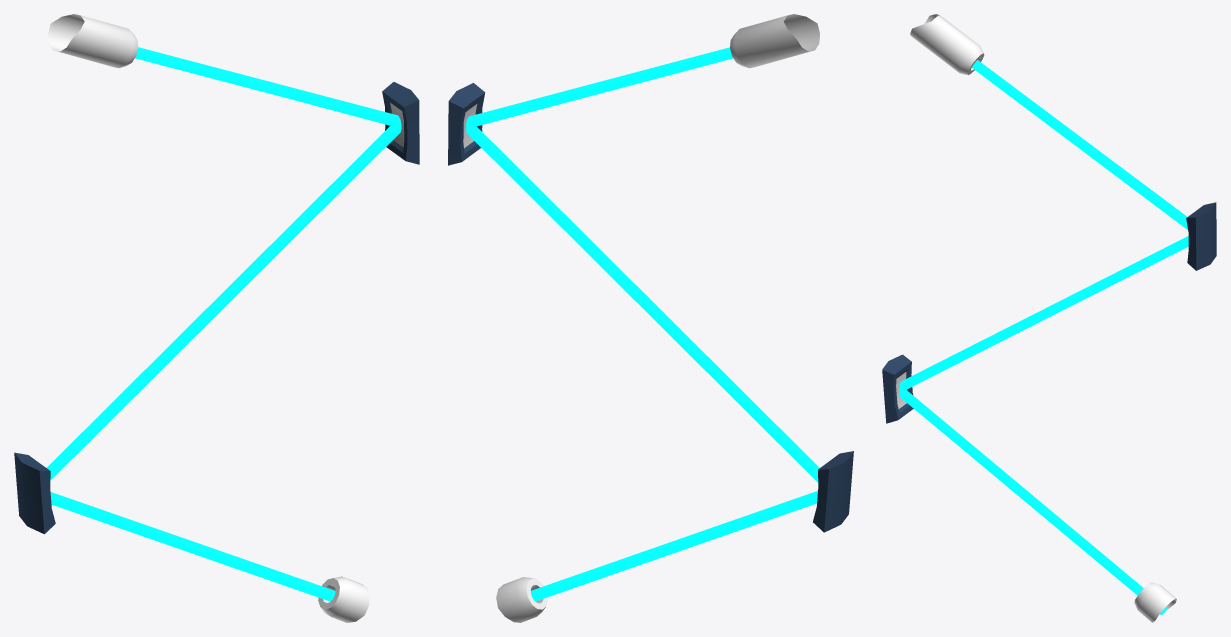
File: Misc_LaserBlender_Lasers.fbx
3 views of the same model, side by side, from view 1: azimuth 30°, elevation 25°; view 2: azimuth 150°, elevation 25°; view 3: azimuth 330°, elevation 25° (orthographic). The views are drawn at different scales.
Parts seen in each view (by area): view 1: Misc_LaserBlender_Lasers.001; view 2: Misc_LaserBlender_Lasers.001; view 3: Misc_LaserBlender_Lasers.001.
Boxes of the visible parts, box(x1,y1,x2,y2) form: Misc_LaserBlender_Lasers.001: box(14, 14, 419, 622); Misc_LaserBlender_Lasers.001: box(448, 14, 853, 622); Misc_LaserBlender_Lasers.001: box(882, 14, 1216, 622).
Bounding box in the file's own units: 0.0984 × 0.1616 × 0.0114.
